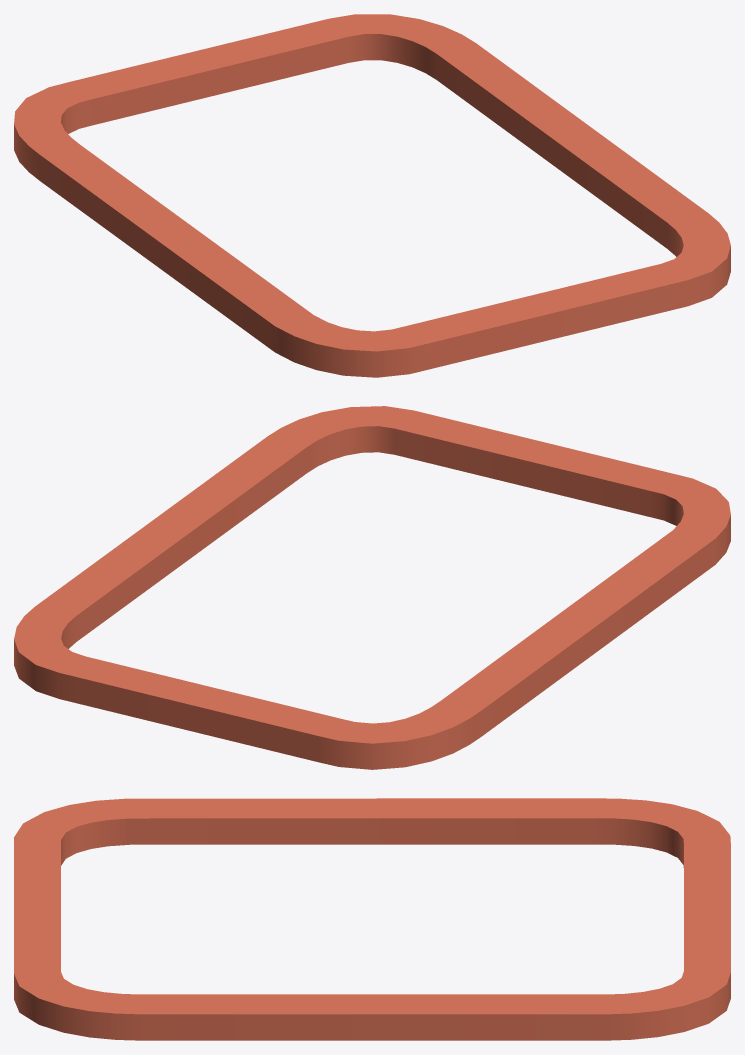
The model's file is Stand.fbx.
3 views of the same model, one above another, from view 1: azimuth 30°, elevation 25°; view 2: azimuth 150°, elevation 25°; view 3: azimuth 270°, elevation 25° (orthographic).
Visible parts, largest first — view 1: Stand; view 2: Stand; view 3: Stand.
Boxes of the visible parts, x1,y1,x2,y2 form: Stand: (14, 14, 730, 377); Stand: (14, 406, 730, 769); Stand: (14, 798, 730, 1040).
Size of the model in its own units: 1091 by 61.96 by 1530.
